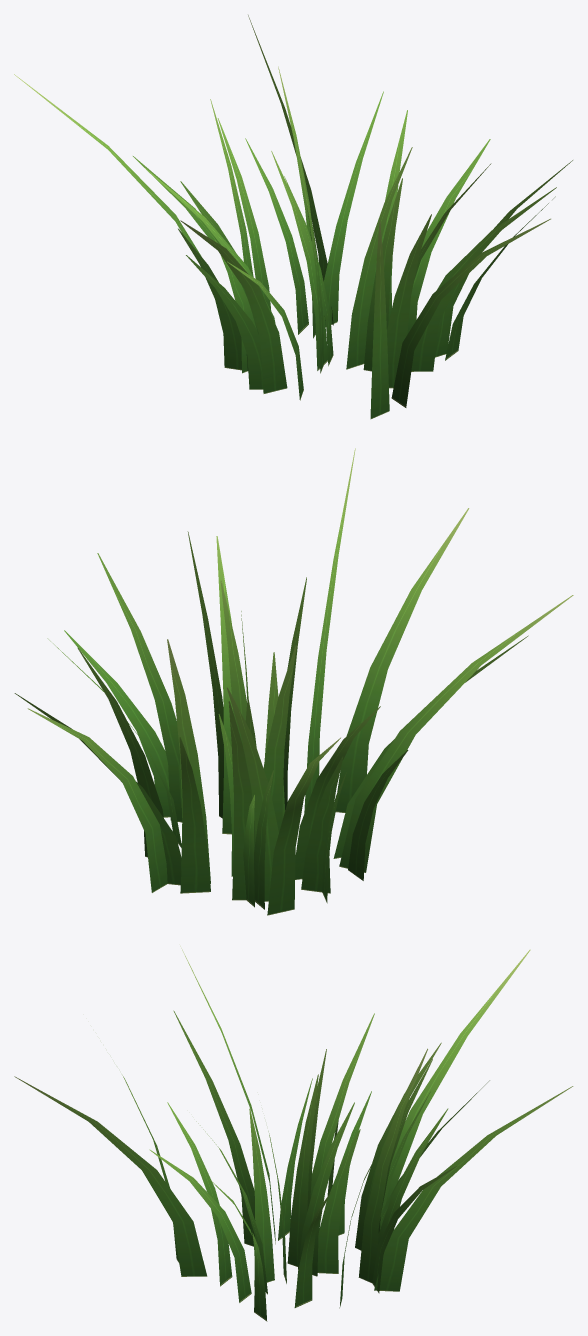
The model's file is grass_tall_b.glb.
3 views of the same model, one above another, from view 1: azimuth 30°, elevation 25°; view 2: azimuth 150°, elevation 25°; view 3: azimuth 270°, elevation 25° (orthographic). The views are drawn at different scales.
Parts seen in each view (by area): view 1: grass_tall_b; view 2: grass_tall_b; view 3: grass_tall_b.
Boxes of the visible parts, <box> form: grass_tall_b: <box>14,15,572,419</box>; grass_tall_b: <box>14,448,573,915</box>; grass_tall_b: <box>14,946,573,1321</box>.
Bounding box in the file's own units: 1.81 × 1.03 × 2.25.
Materials: 1 (1 with a texture image).
